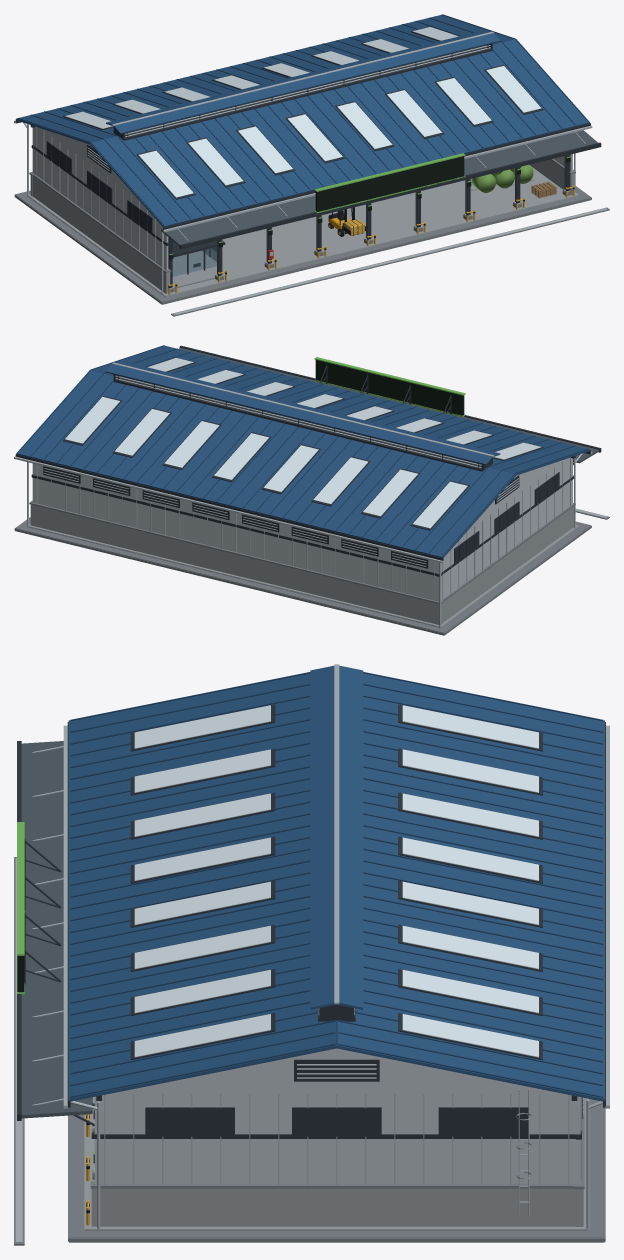
File: forage_yard.glb
3 renders of one model, top to bottom at view 1: azimuth 30°, elevation 25°; view 2: azimuth 150°, elevation 25°; view 3: azimuth 270°, elevation 25°, orthographic. The views are drawn at different scales.
Visible parts, largest first — view 1: Roof_RoofSteelBlue, Body_ConcSlab, Roof_SkylightPoly, Body_ConcCurb, Body_CladdingLight, Roof_StructSteel, Body_StructSteel, Roof_RoofRibBlue, Body_TrimSteel, Body_SignFrameDark, Roof_GalvMetal, Body_GalvMetal (+5 smaller); view 2: Roof_RoofSteelBlue, Body_CladdingLight, Body_ConcSlab, Roof_SkylightPoly, Body_StructSteel, Roof_StructSteel, Body_ConcCurb, Roof_RoofRibBlue, Roof_GalvMetal, Body_SignFrameDark, Body_CladdingRib, Body_GalvMetal (+2 smaller); view 3: Roof_RoofSteelBlue, Body_CladdingLight, Roof_SkylightPoly, Roof_RoofRibBlue, Body_ConcSlab, Body_TrimSteel, Body_ConcCurb, Body_StructSteel, Roof_StructSteel, Roof_GalvMetal, Body_GalvMetal, Body_CladdingRib (+1 smaller).
Part boxes in pixels (bbox=[...]): Roof_RoofSteelBlue: bbox=[16, 14, 589, 227]; Body_ConcSlab: bbox=[26, 159, 579, 296]; Roof_SkylightPoly: bbox=[65, 27, 541, 197]; Body_ConcCurb: bbox=[14, 159, 609, 316]; Body_CladdingLight: bbox=[32, 127, 572, 287]; Roof_StructSteel: bbox=[15, 26, 590, 230]; Body_StructSteel: bbox=[30, 125, 601, 287]; Roof_RoofRibBlue: bbox=[17, 14, 588, 225]; Body_TrimSteel: bbox=[161, 130, 597, 246]; Body_SignFrameDark: bbox=[169, 156, 570, 259]; Roof_GalvMetal: bbox=[14, 31, 592, 232]; Body_GalvMetal: bbox=[23, 122, 607, 314]; Roof_RoofSteelBlue: bbox=[16, 345, 589, 558]; Body_CladdingLight: bbox=[32, 458, 572, 601]; Body_ConcSlab: bbox=[26, 504, 579, 627]; Roof_SkylightPoly: bbox=[65, 358, 541, 528]; Body_StructSteel: bbox=[31, 345, 601, 576]; Roof_StructSteel: bbox=[15, 357, 590, 560]; Body_ConcCurb: bbox=[14, 500, 609, 635]; Roof_RoofRibBlue: bbox=[17, 345, 588, 556]; Roof_GalvMetal: bbox=[14, 362, 592, 563]; Body_SignFrameDark: bbox=[315, 360, 464, 415]; Body_CladdingRib: bbox=[37, 457, 570, 600]; Body_GalvMetal: bbox=[27, 453, 607, 627]; Roof_RoofSteelBlue: bbox=[68, 665, 604, 1101]; Body_CladdingLight: bbox=[94, 1048, 580, 1184]; Roof_SkylightPoly: bbox=[134, 705, 538, 1057]; Roof_RoofRibBlue: bbox=[70, 672, 603, 1097]; Body_ConcSlab: bbox=[84, 1097, 589, 1230]; Body_TrimSteel: bbox=[21, 741, 92, 1118]; Body_ConcCurb: bbox=[14, 857, 605, 1245]; Body_StructSteel: bbox=[17, 741, 582, 1139]; Roof_StructSteel: bbox=[67, 704, 605, 1107]; Roof_GalvMetal: bbox=[63, 664, 609, 1108]; Body_GalvMetal: bbox=[15, 746, 602, 1242]; Body_CladdingRib: bbox=[104, 1093, 581, 1184].
Bounding box in the file's own units: 45 × 11.85 × 29.28.
